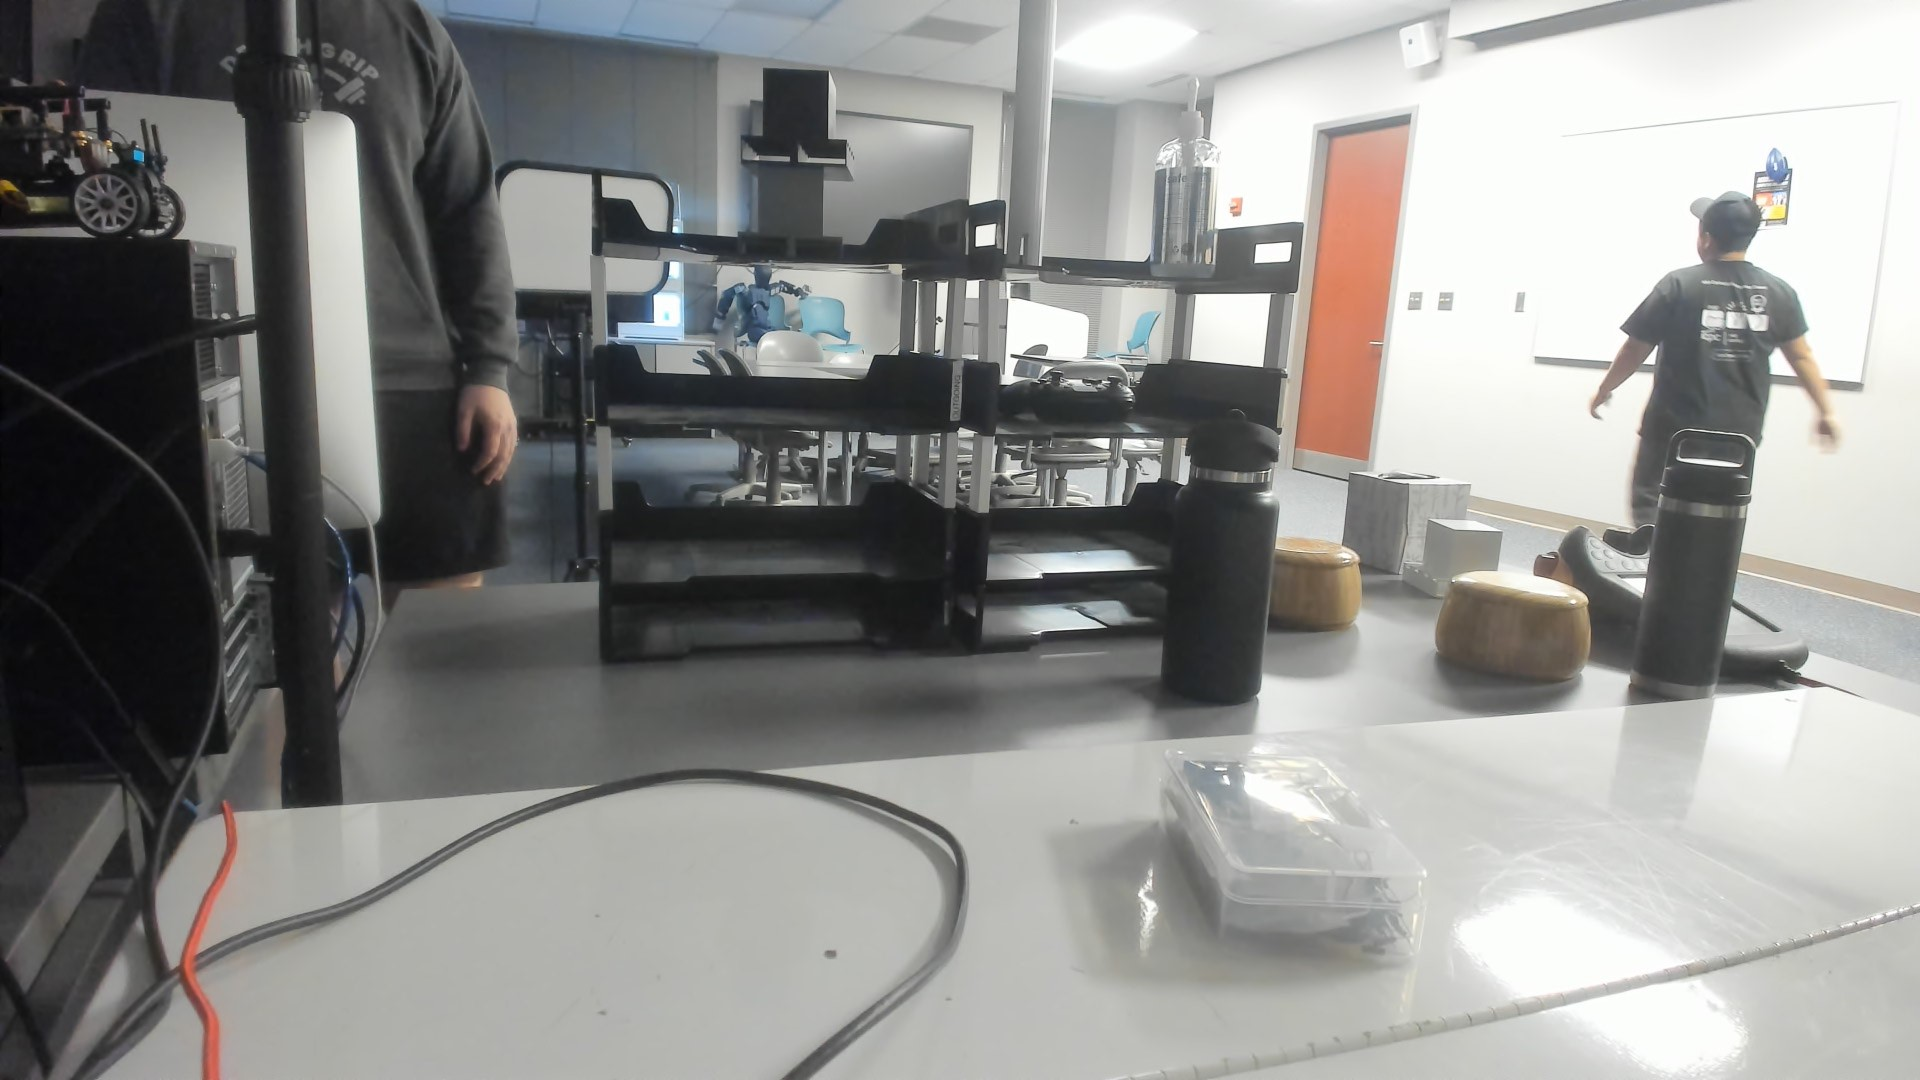black pallet: (735, 65, 877, 181)
grey pallet: (723, 167, 865, 264)
white pallet: (1394, 516, 1513, 603)
